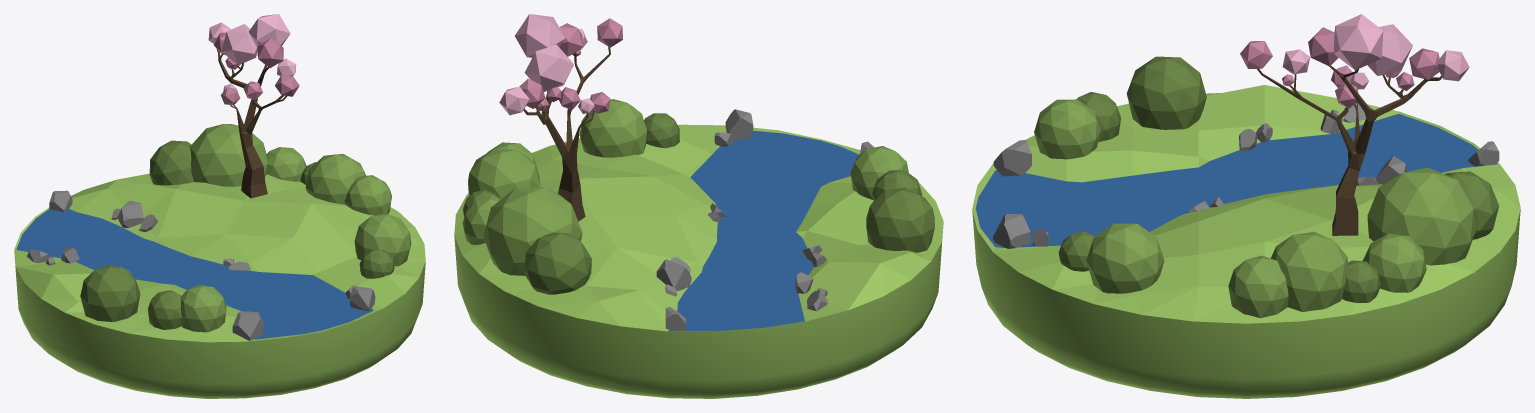
Rendered from Sakura_scene_full.glb.
3 renders of one model, left to right at view 1: azimuth 30°, elevation 25°; view 2: azimuth 150°, elevation 25°; view 3: azimuth 270°, elevation 25°, orthographic. The views are drawn at different scales.
Parts seen in each view (by area): view 1: Ground-spring, River_plane, Bush2, Bush2.003, Big tree.001, Bush2.001, Bush4, Bush2.002, Bush1, Bush3, Bush5.002, Bush3.001 (+9 smaller); view 2: Ground-spring, River_plane, Bush2, Bush2.003, Bush1, Bush4, Bush2.001, Big tree.001, Bush2.002, Icosphere.005, Icosphere.002, Bush3.001 (+8 smaller); view 3: Ground-spring, River_plane, Bush2, Bush2.003, Bush2.001, Bush4, Big tree.001, Bush2.002, Bush3, Bush3.001, Icosphere.002, Bush1 (+13 smaller).
Part boxes in pixels (x1,y1,x2,y2): Ground-spring: [14, 173, 425, 398]; River_plane: [16, 209, 373, 339]; Bush2: [190, 124, 267, 186]; Bush2.003: [80, 264, 140, 321]; Big tree.001: [217, 49, 287, 198]; Bush2.001: [305, 154, 365, 204]; Bush4: [354, 213, 411, 266]; Bush2.002: [180, 284, 226, 332]; Bush1: [149, 140, 193, 185]; Bush3: [344, 175, 391, 215]; Bush5.002: [148, 290, 181, 329]; Bush3.001: [266, 147, 306, 181]; Ground-spring: [454, 124, 943, 398]; River_plane: [668, 130, 859, 331]; Bush2: [483, 187, 582, 275]; Bush2.003: [866, 187, 934, 252]; Bush1: [524, 232, 591, 294]; Bush4: [579, 99, 647, 157]; Bush2.001: [468, 148, 540, 198]; Big tree.001: [523, 46, 610, 221]; Bush2.002: [850, 146, 908, 200]; Icosphere.005: [524, 44, 573, 91]; Icosphere.002: [515, 14, 565, 57]; Bush3.001: [462, 195, 500, 244]; Ground-spring: [972, 85, 1520, 398]; River_plane: [975, 113, 1497, 247]; Bush2: [1367, 167, 1476, 265]; Bush2.003: [1126, 56, 1206, 129]; Bush2.001: [1270, 231, 1348, 311]; Bush4: [1086, 223, 1164, 293]; Big tree.001: [1257, 66, 1442, 235]; Bush2.002: [1034, 99, 1101, 159]; Bush3: [1228, 255, 1288, 318]; Bush3.001: [1362, 233, 1426, 292]; Icosphere.002: [1334, 14, 1383, 70]; Bush1: [1444, 171, 1498, 239].
Size of the model in its own units: 2.17 by 1.49 by 2.17.
